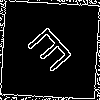E: (25, 25, 81, 82)
